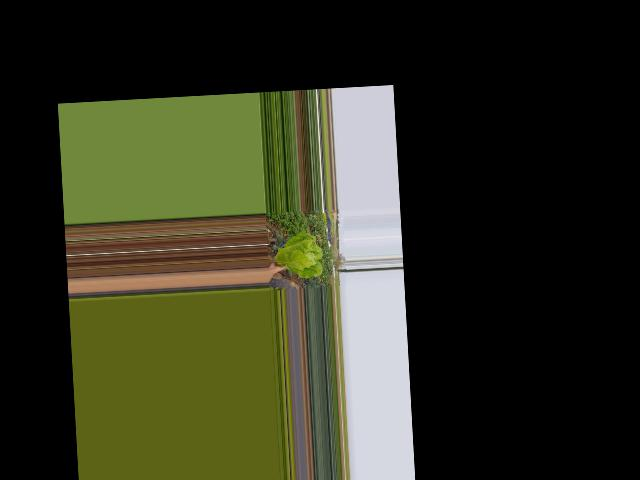lettuce: (270, 230, 324, 282)
